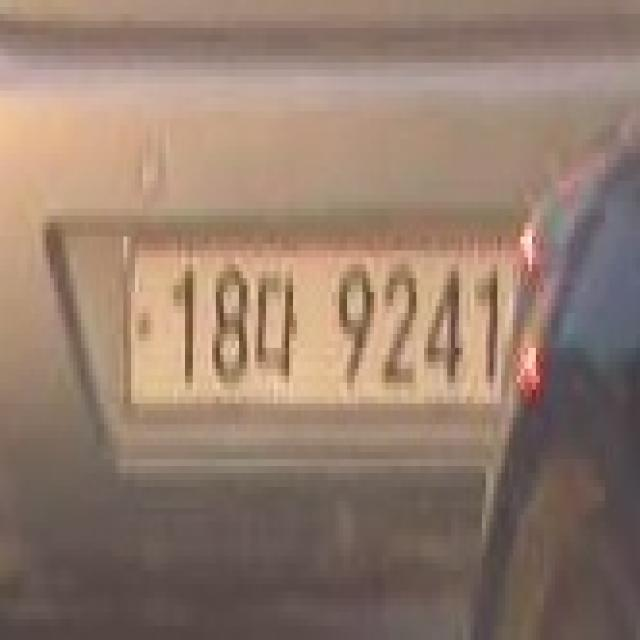1: (470, 258, 517, 410), (162, 257, 200, 403)
2: (378, 257, 428, 403)
4: (424, 251, 467, 404)
8: (208, 251, 255, 404)
9: (332, 250, 374, 396)
da: (254, 257, 304, 403)
license_plate: (111, 223, 544, 445)
